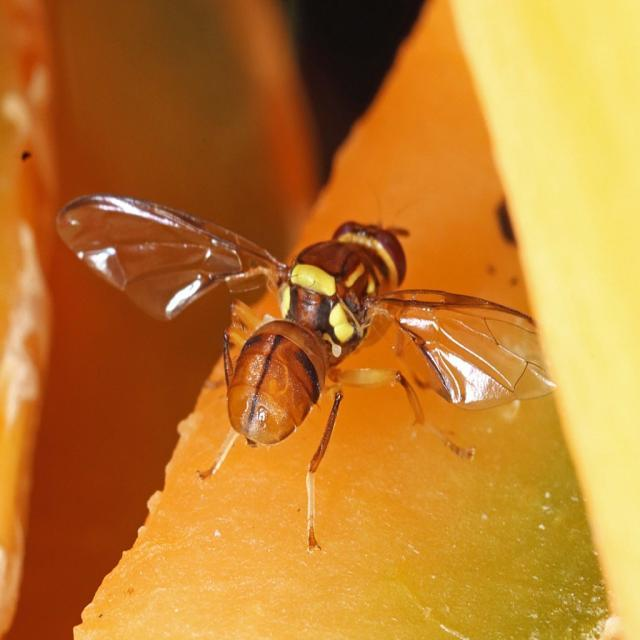Fruit fly: (38, 187, 565, 560)
